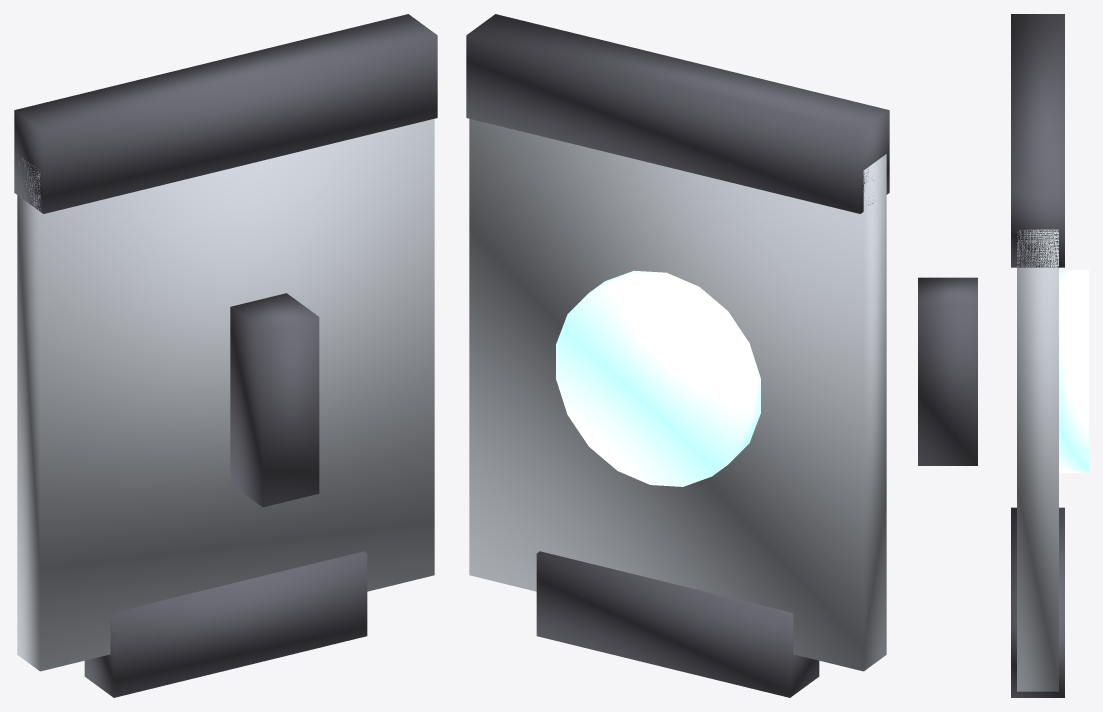
File: Prop_Shield.fbx
3 renders of one model, left to right at view 1: azimuth 30°, elevation 25°; view 2: azimuth 150°, elevation 25°; view 3: azimuth 270°, elevation 25°, orthographic. The views are drawn at different scales.
Visible parts, largest first — view 1: Prop_Shield; view 2: Prop_Shield; view 3: Prop_Shield.
Part boxes in pixels (x1,y1,x2,y2): Prop_Shield: [14, 14, 437, 697]; Prop_Shield: [466, 14, 889, 697]; Prop_Shield: [918, 14, 1088, 697].
Bounding box in the file's own units: 14 × 19.8 × 5.7.
